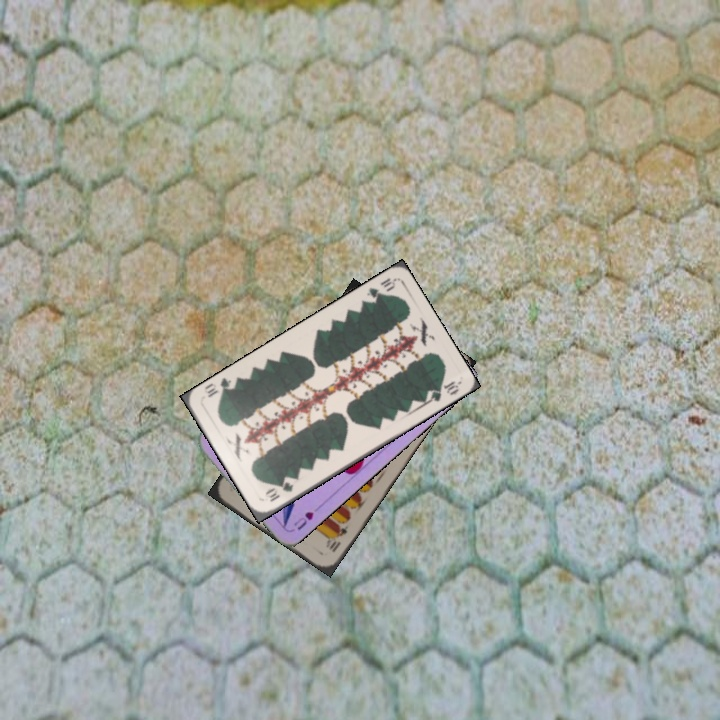E10: (325, 521, 351, 555)
G10: (361, 273, 398, 306), (261, 478, 296, 505)
HU: (289, 508, 316, 533)
